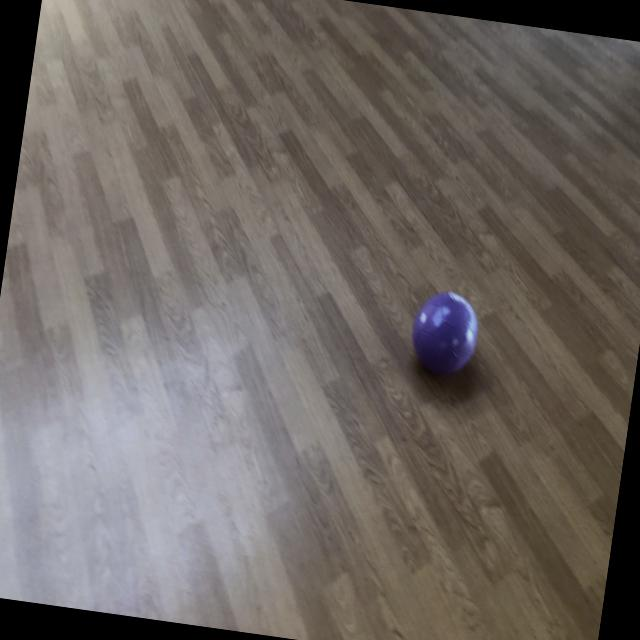purple_ball: (408, 288, 482, 379)
